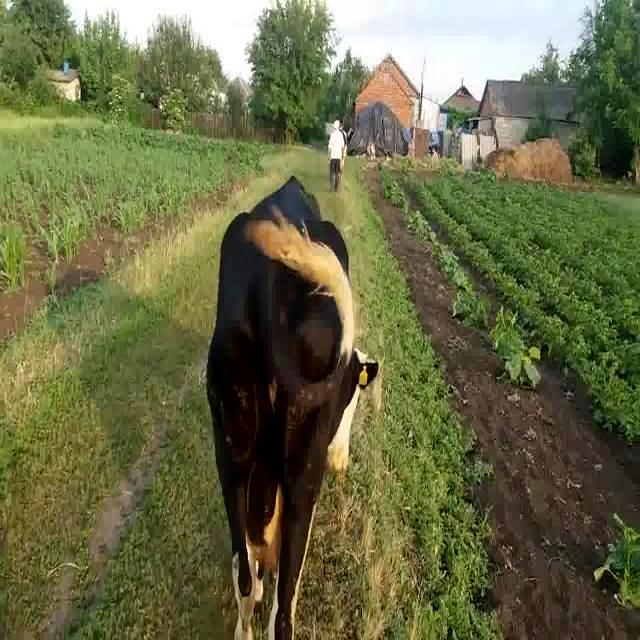COW: (208, 176, 379, 639)
